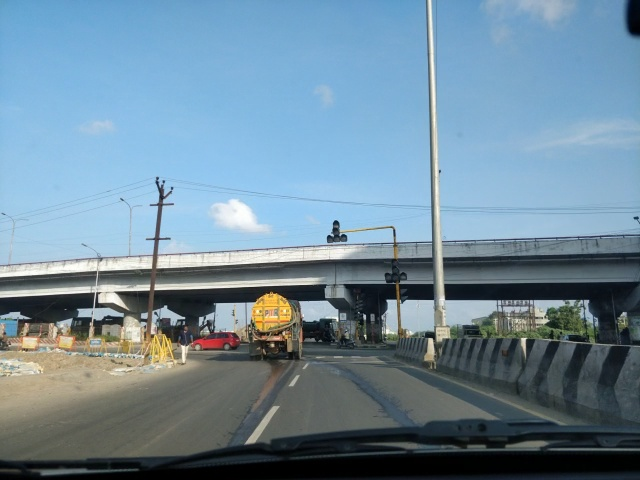car: (192, 330, 242, 350)
motorbike: (339, 330, 354, 349)
person: (180, 323, 192, 364)
poles: (324, 216, 409, 335)
truck: (246, 296, 305, 359), (308, 318, 340, 345)
